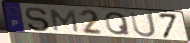2: (78, 9, 104, 36)
7: (158, 12, 180, 40)
M: (48, 8, 80, 33)
Q: (105, 12, 132, 36)
S: (24, 6, 51, 33)
U: (129, 11, 158, 38)
